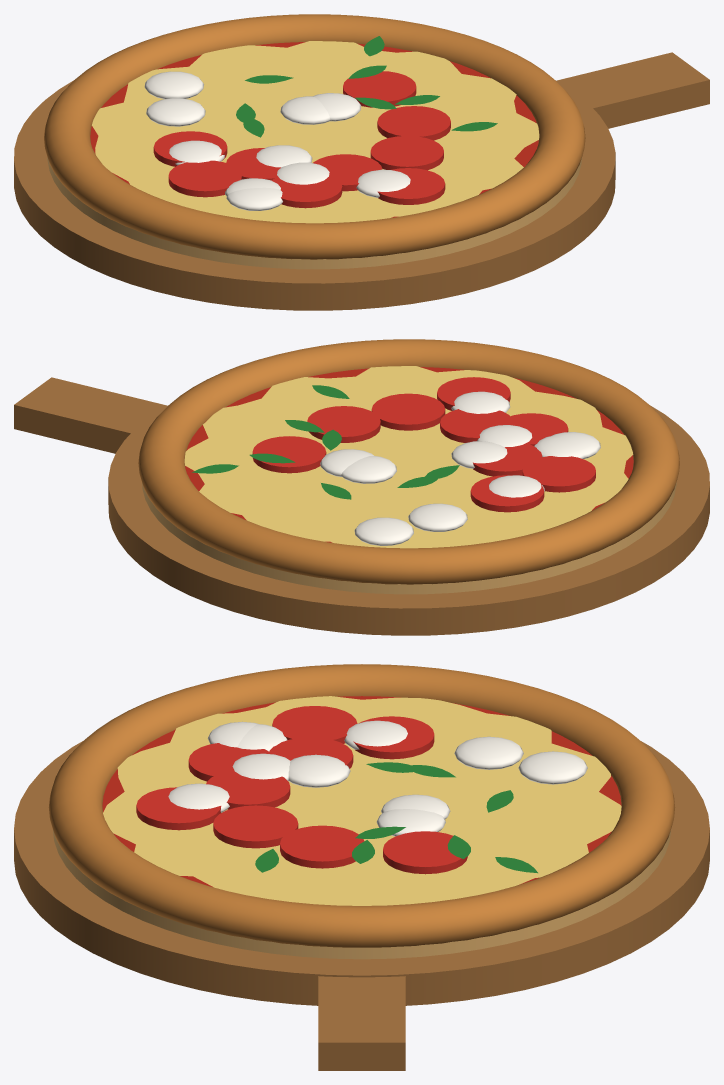
The model's file is pizza-margherita.glb.
3 renders of one model, top to bottom at view 1: azimuth 30°, elevation 25°; view 2: azimuth 150°, elevation 25°; view 3: azimuth 270°, elevation 25°, orthographic. The views are drawn at different scales.
Parts seen in each view (by area): view 1: pizza-margherita, tomate, mussarela, manjericao; view 2: pizza-margherita, tomate, mussarela, manjericao; view 3: pizza-margherita, tomate, mussarela, manjericao.
Part boxes in pixels (x1,y1,x2,y2): pizza-margherita: (14, 14, 709, 310); tomate: (153, 71, 450, 208); mussarela: (144, 71, 410, 210); manjericao: (236, 36, 497, 137); pizza-margherita: (14, 339, 709, 635); tomate: (252, 377, 595, 512); mussarela: (320, 391, 600, 545); manjericao: (192, 385, 459, 499); pizza-margherita: (14, 664, 709, 1070); tomate: (136, 706, 467, 874); mussarela: (168, 720, 587, 836); manjericao: (255, 762, 537, 873).
Bounding box in the file's own units: 0.44 × 0.0412 × 0.36.
